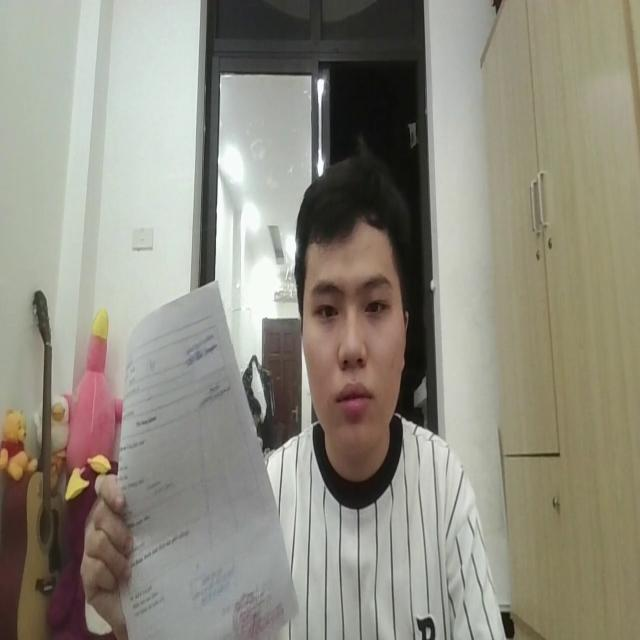book: (115, 277, 303, 640)
student: (264, 153, 510, 640)
